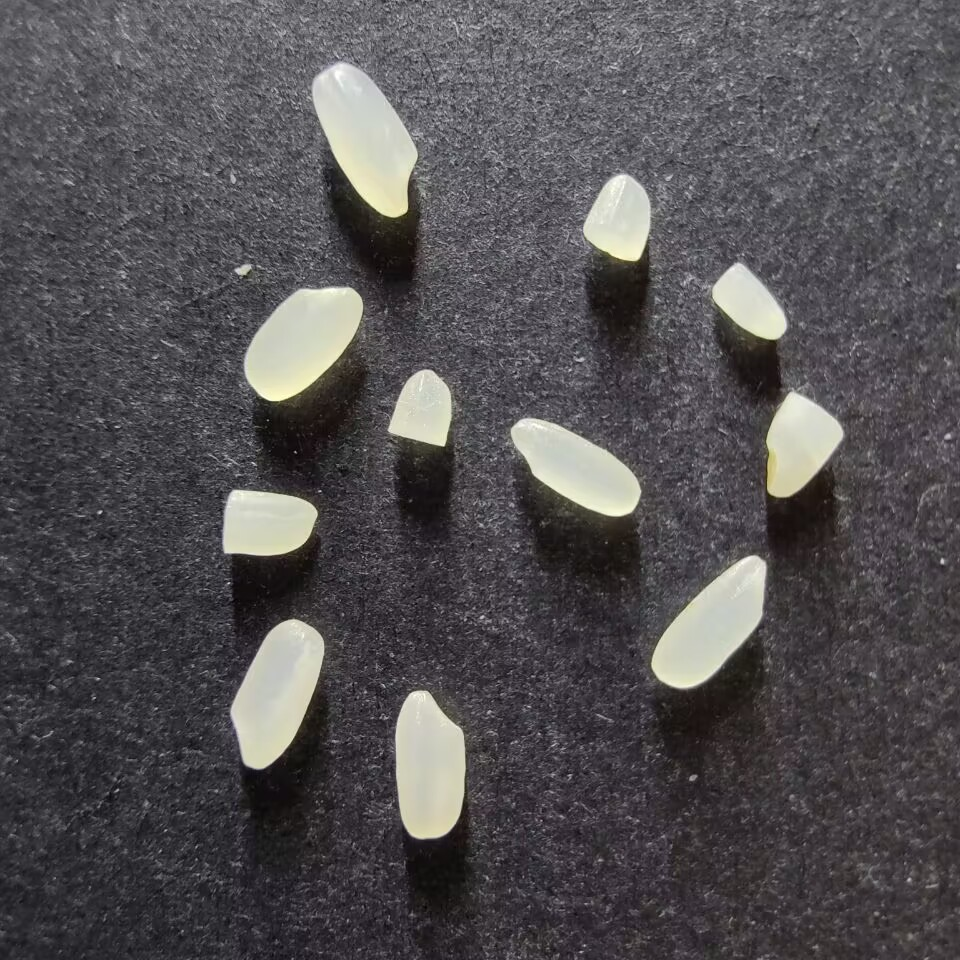broken: (763, 389, 846, 499), (219, 487, 320, 559), (709, 260, 789, 342), (580, 173, 652, 264), (385, 367, 455, 448)
rice: (310, 61, 420, 218), (649, 551, 769, 690), (227, 617, 326, 770), (242, 285, 365, 402), (509, 416, 643, 518), (392, 689, 467, 841)
